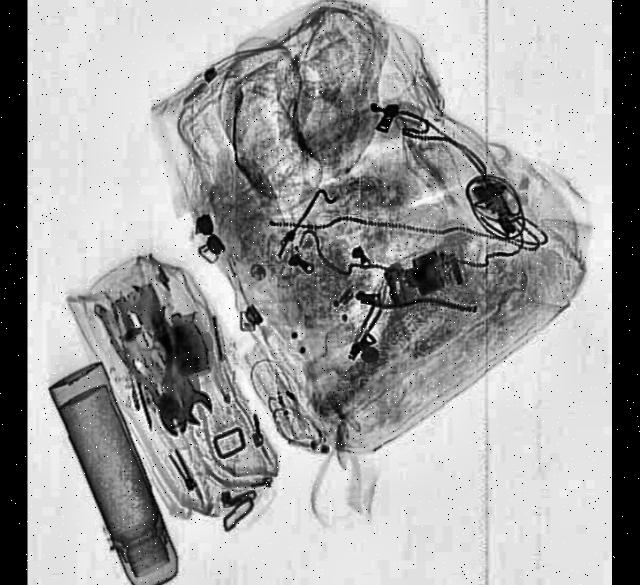Pliers: (92, 276, 211, 445)
Wrench: (140, 314, 220, 433)
